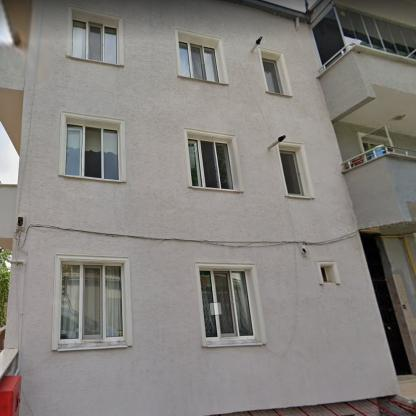door: (372, 281, 413, 375)
window: (312, 4, 415, 68), (58, 259, 127, 346), (198, 266, 258, 340), (62, 119, 122, 181), (187, 138, 236, 190), (71, 15, 119, 64), (178, 39, 222, 83), (278, 149, 306, 197), (261, 56, 286, 95), (362, 125, 393, 151), (319, 266, 336, 284)
